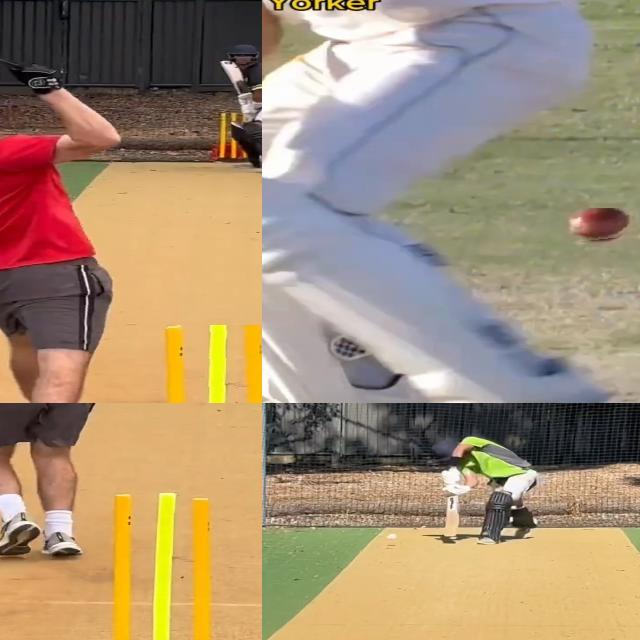Cricket ball: (563, 208, 635, 243), (385, 534, 399, 542)
Stumps: (91, 490, 230, 640), (142, 325, 262, 403)
